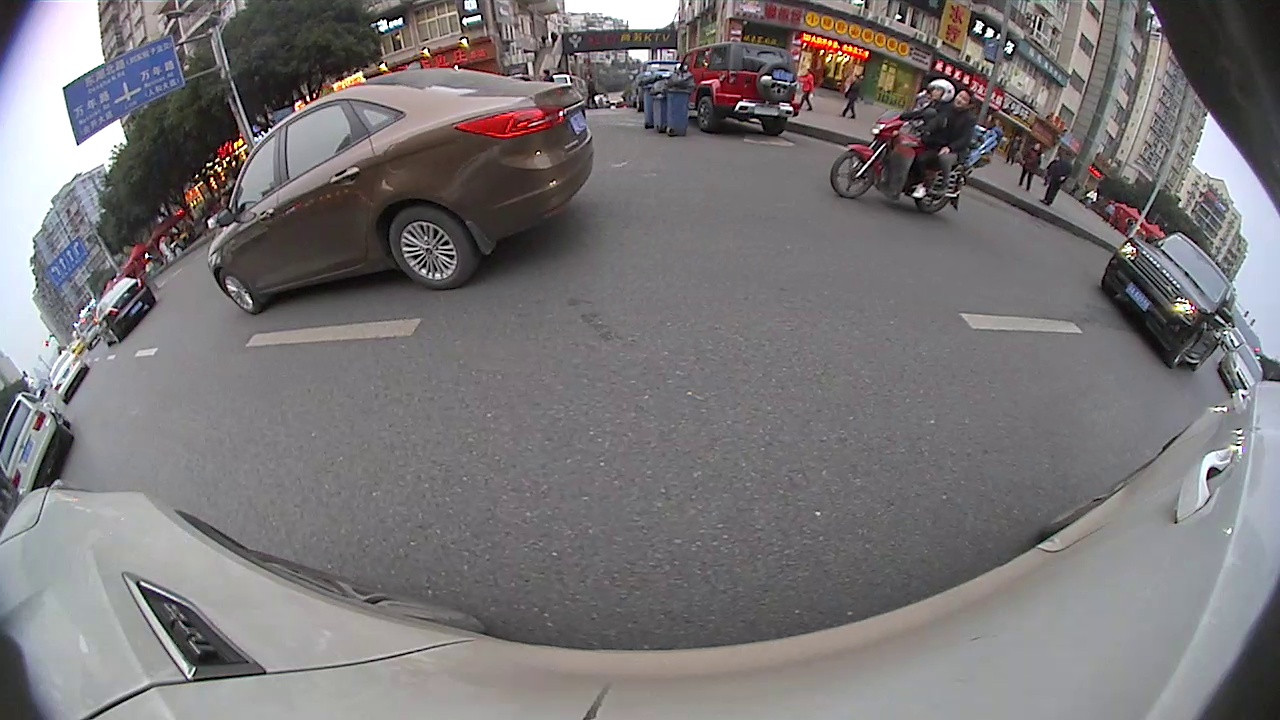car: (205, 67, 591, 318), (1096, 231, 1237, 375), (674, 38, 801, 137), (0, 389, 79, 500), (91, 274, 156, 343), (1216, 339, 1265, 394), (49, 345, 91, 398)
front: (826, 141, 880, 202), (217, 265, 267, 318)
rear: (383, 201, 476, 295), (910, 166, 956, 217)
rider: (827, 78, 1003, 215)
